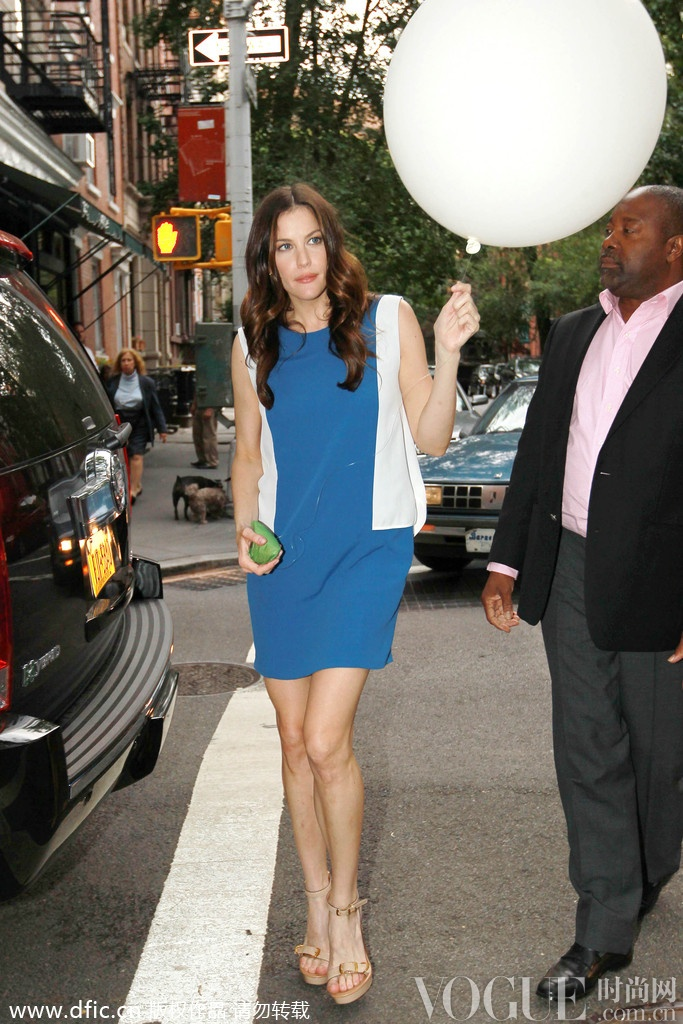大人: (219, 184, 433, 1002), (531, 182, 677, 986)
